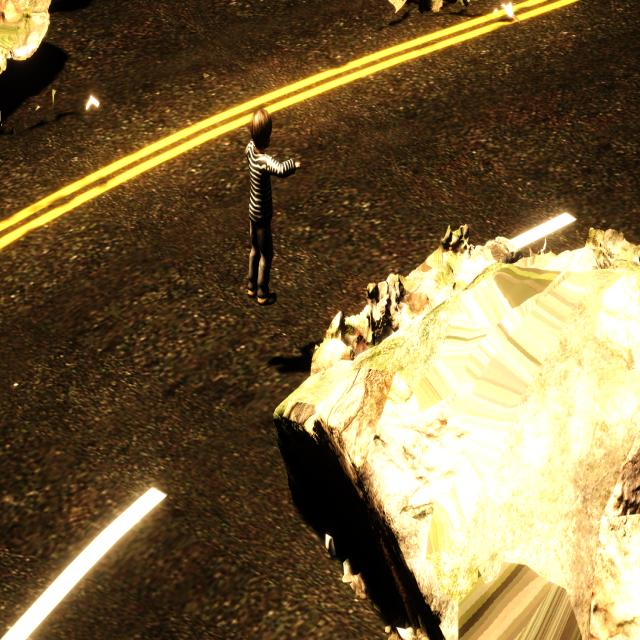Human: (243, 102, 304, 307)
